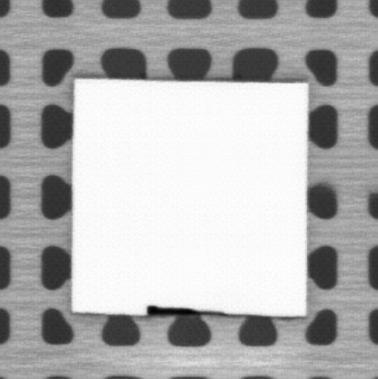DIE_BROKEN: (143, 303, 231, 316)
